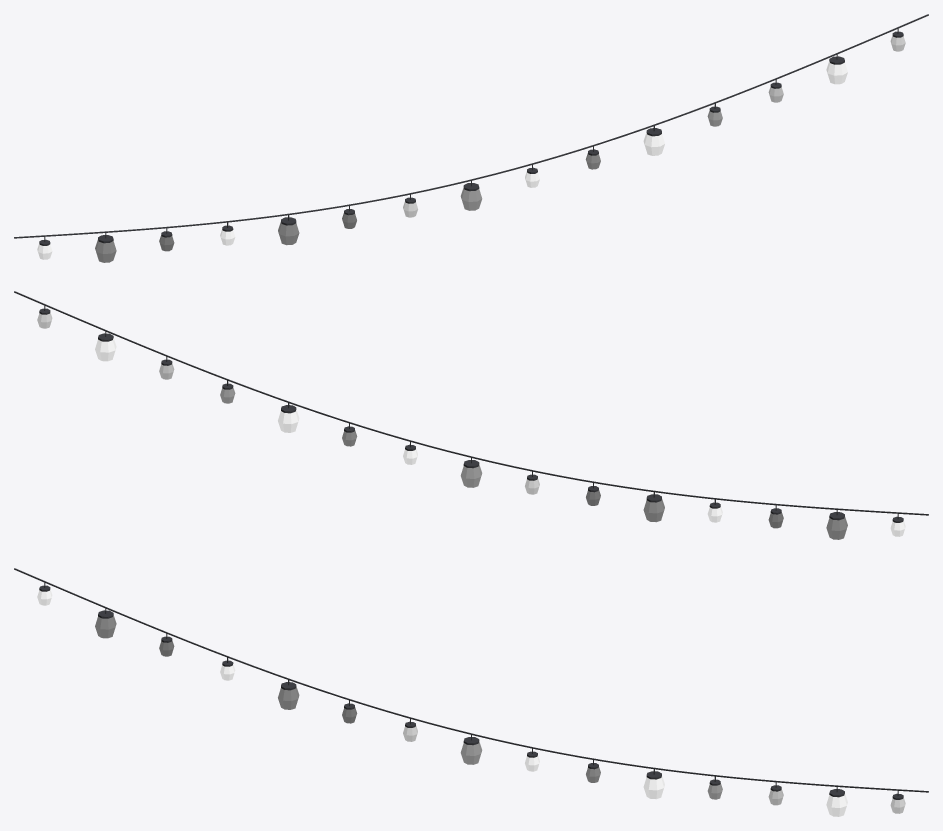
File: lantern_string_16m.glb
The picture shows the model from 3 angles, top to bottom: view 1: azimuth 30°, elevation 25°; view 2: azimuth 150°, elevation 25°; view 3: azimuth 330°, elevation 25°; orthographic projection.
Parts seen in each view (by area): view 1: lantern_string_16m; view 2: lantern_string_16m; view 3: lantern_string_16m.
Part boxes in pixels (box(x1,y1,x2,y2)): lantern_string_16m: box(14, 14, 928, 262); lantern_string_16m: box(14, 291, 928, 539); lantern_string_16m: box(14, 568, 928, 816).
Size of the model in its own units: 16 by 1.37 by 0.34.
2 materials, 1 textured.
